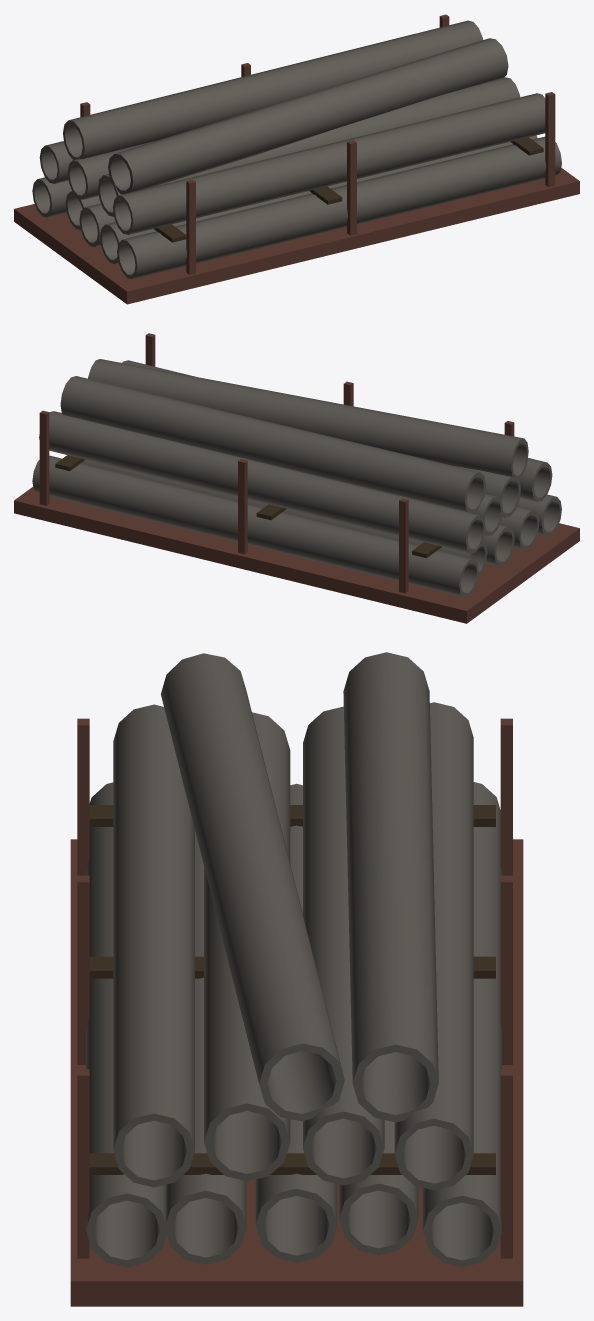
The model's file is Pipes_3.fbx.
3 views of the same model, one above another, from view 1: azimuth 30°, elevation 25°; view 2: azimuth 150°, elevation 25°; view 3: azimuth 270°, elevation 25° (orthographic). The views are drawn at different scales.
Parts seen in each view (by area): view 1: Pipes_3; view 2: Pipes_3; view 3: Pipes_3.
Part boxes in pixels (x1,y1,x2,y2): Pipes_3: (14, 14, 579, 304); Pipes_3: (14, 333, 579, 623); Pipes_3: (70, 652, 523, 1306).
Size of the model in its own units: 511 by 128 by 221.
